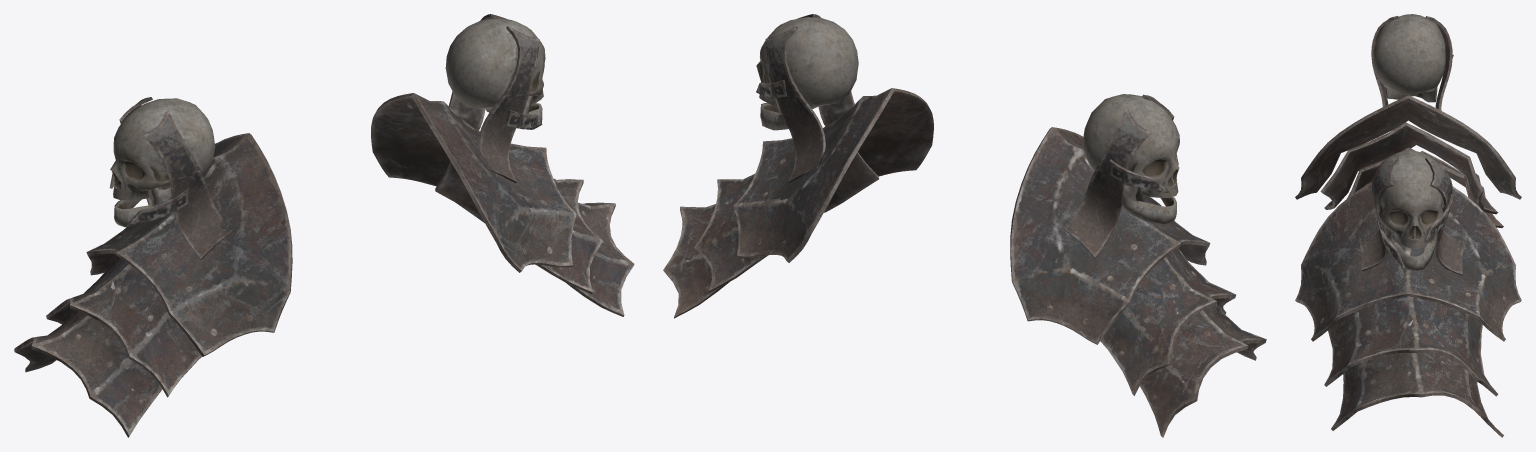
File: sk_dg_uruk_pauldron_elite_f.fbx
3 views of the same model, side by side, from view 1: azimuth 30°, elevation 25°; view 2: azimuth 150°, elevation 25°; view 3: azimuth 270°, elevation 25° (orthographic). The views are drawn at different scales.
Parts seen in each view (by area): view 1: sk_dg_uruk_pauldron_elite_f; view 2: sk_dg_uruk_pauldron_elite_f; view 3: sk_dg_uruk_pauldron_elite_f.
Part boxes in pixels (x1,y1,x2,y2): sk_dg_uruk_pauldron_elite_f: (14,14,634,437); sk_dg_uruk_pauldron_elite_f: (663,14,1266,437); sk_dg_uruk_pauldron_elite_f: (1295,14,1521,437).
Size of the model in its own units: 0.8761 by 0.3448 by 0.4133.
Materials: 1 (1 with a texture image).
